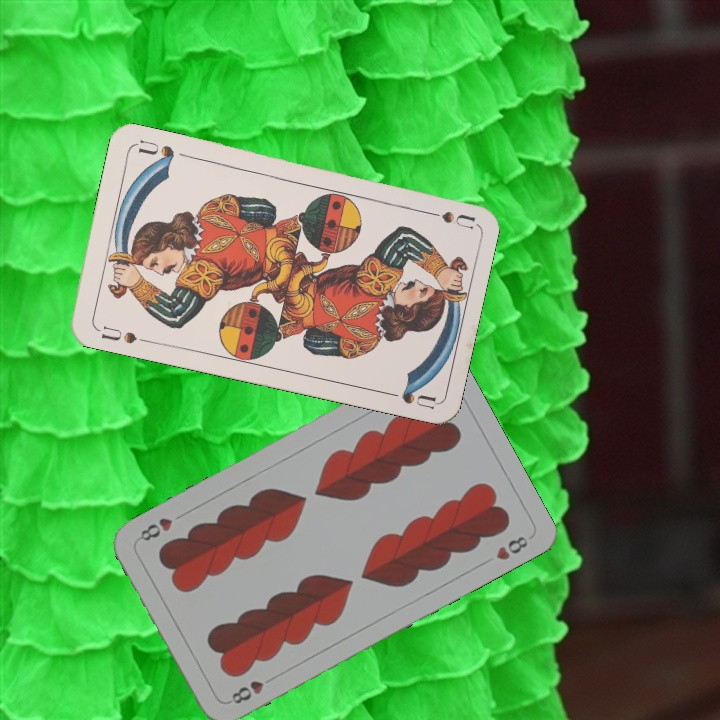H8: (225, 676, 267, 707)
SU: (416, 205, 475, 232), (92, 322, 151, 346)
